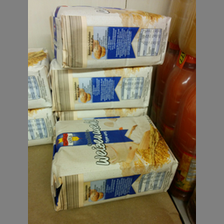flour: (50, 114, 179, 212), (50, 4, 172, 69), (49, 61, 153, 109)
